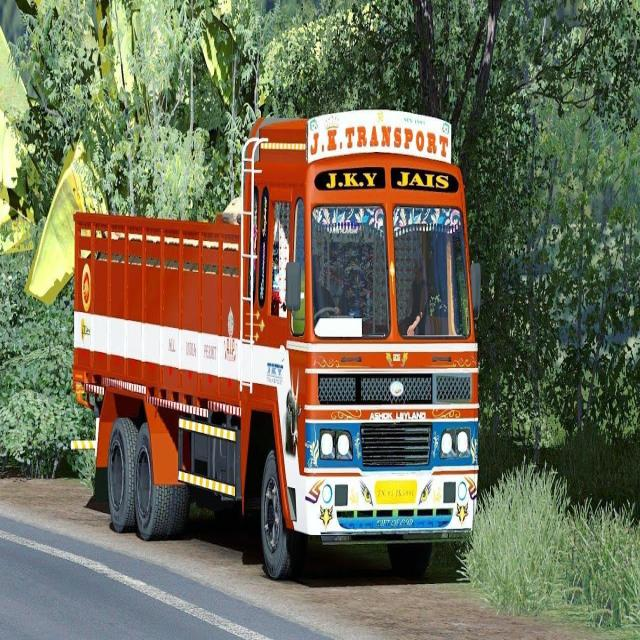truck: (72, 109, 479, 581)
